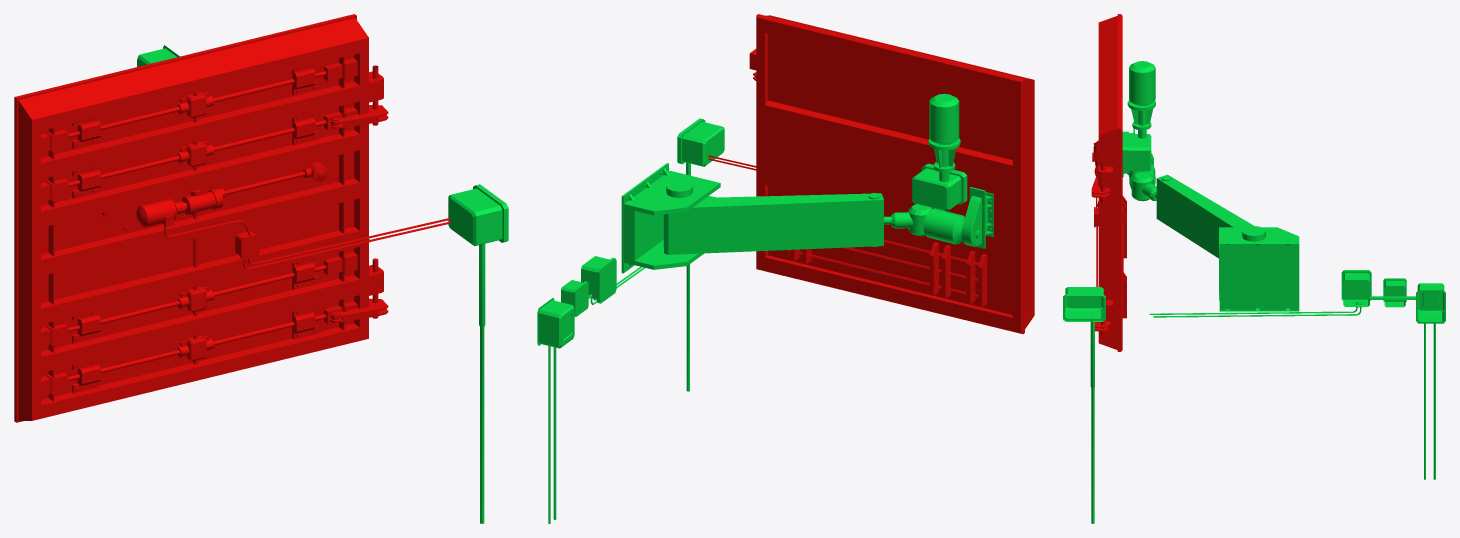
File: гермодерь_low.fbx
3 views of the same model, side by side, from view 1: azimuth 30°, elevation 25°; view 2: azimuth 150°, elevation 25°; view 3: azimuth 270°, elevation 25° (orthographic). The views are drawn at different scales.
Parts seen in each view (by area): view 1: part1, part2; view 2: part1, part2; view 3: part2, part1.
Boxes of the visible parts, <box> form: part1: <box>14,14,450,422</box>; part2: <box>137,45,508,523</box>; part1: <box>708,14,1034,333</box>; part2: <box>537,93,993,523</box>; part2: <box>1063,61,1445,523</box>; part1: <box>1091,14,1126,351</box>.
Size of the model in its own units: 4486 by 4927 by 4767.
